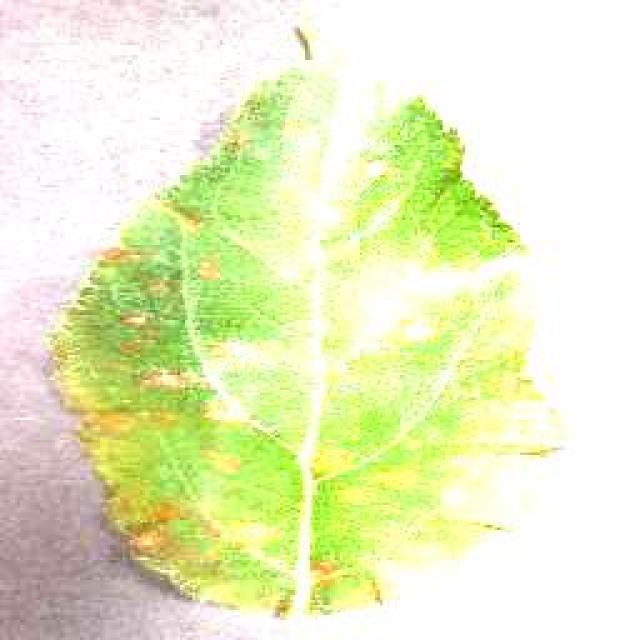apple rust disease: (40, 20, 565, 625)
